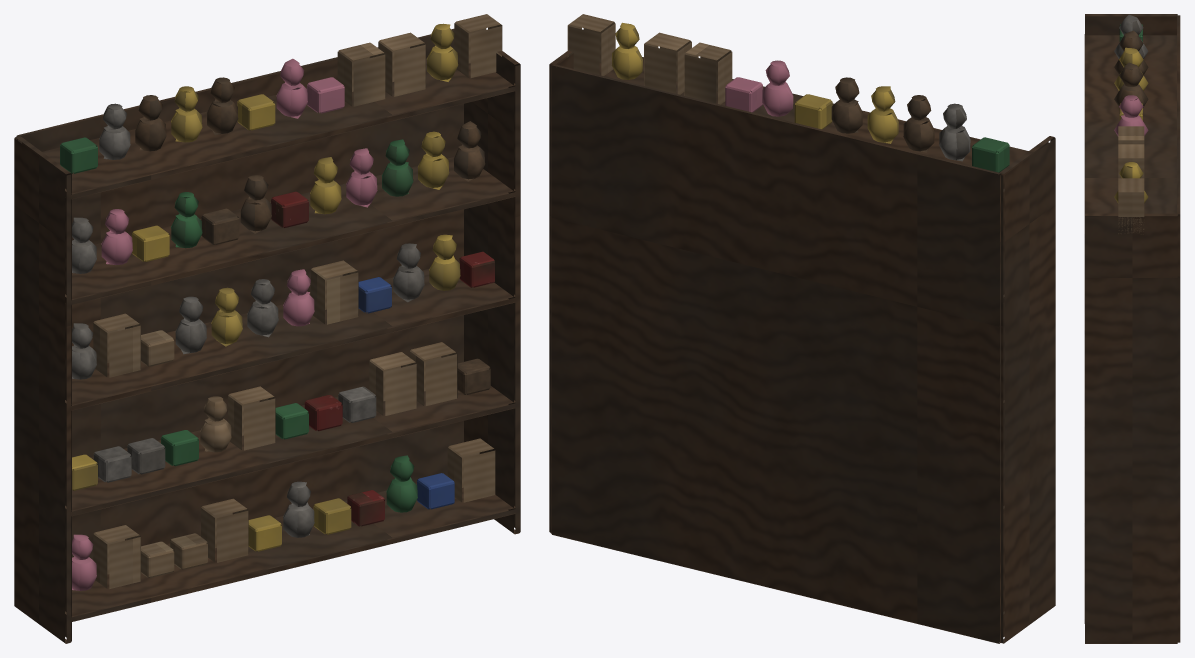
Rendered from W03_toy_shop_shelf_v1.glb.
3 renders of one model, left to right at view 1: azimuth 30°, elevation 25°; view 2: azimuth 150°, elevation 25°; view 3: azimuth 270°, elevation 25°, orthographic. The views are drawn at different scales.
Parts seen in each view (by area): view 1: W03_toy_shop_shelf_v1; view 2: W03_toy_shop_shelf_v1; view 3: W03_toy_shop_shelf_v1.
Boxes of the visible parts, <box> form: W03_toy_shop_shelf_v1: <box>14,14,520,643</box>; W03_toy_shop_shelf_v1: <box>549,14,1055,643</box>; W03_toy_shop_shelf_v1: <box>1084,14,1180,643</box>.
Size of the model in its own units: 1.9 by 2 by 0.3832.
9 materials, 9 textured.
